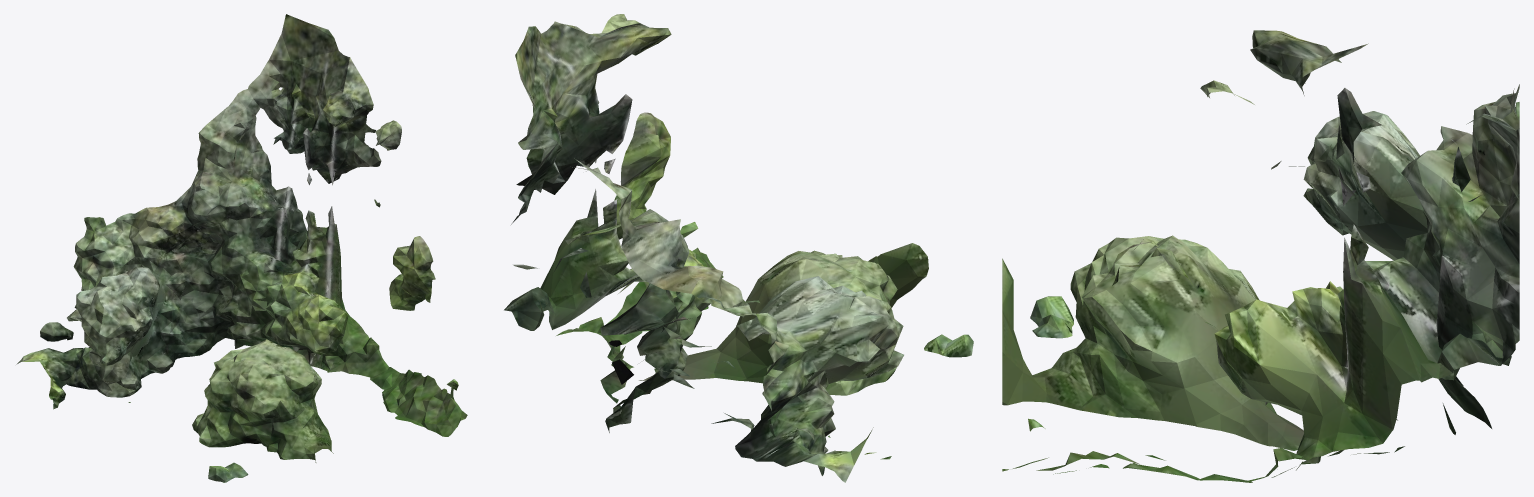
3 renders of one model, left to right at view 1: azimuth 30°, elevation 25°; view 2: azimuth 150°, elevation 25°; view 3: azimuth 270°, elevation 25°, orthographic. The views are drawn at different scales.
Size of the model in its own units: 26.11 by 26.11 by 26.11.
5 materials, 5 textured.
